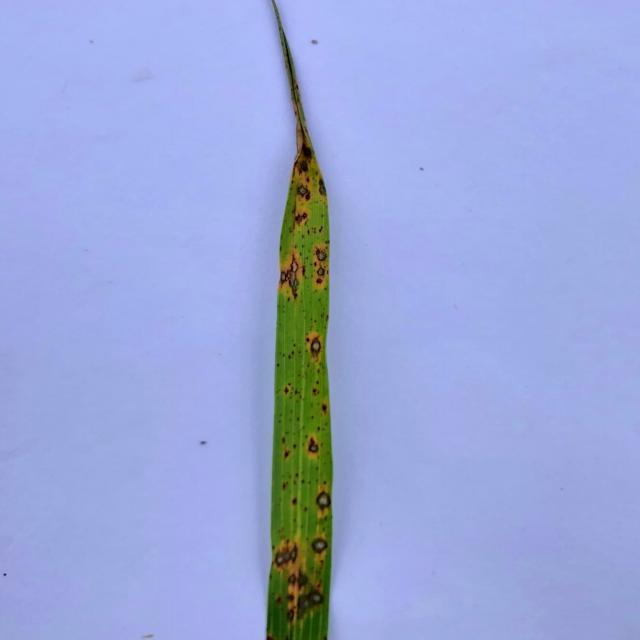leaf blast: (280, 252, 299, 302), (314, 491, 331, 511), (309, 336, 321, 360), (308, 590, 324, 606), (312, 538, 327, 554), (308, 438, 320, 456), (284, 607, 296, 625), (314, 248, 328, 262), (275, 551, 285, 569), (288, 547, 298, 563), (296, 185, 308, 198), (318, 180, 327, 197), (299, 159, 308, 174), (304, 146, 313, 160), (316, 266, 325, 276), (288, 575, 296, 586), (286, 594, 296, 602), (315, 278, 322, 284)
